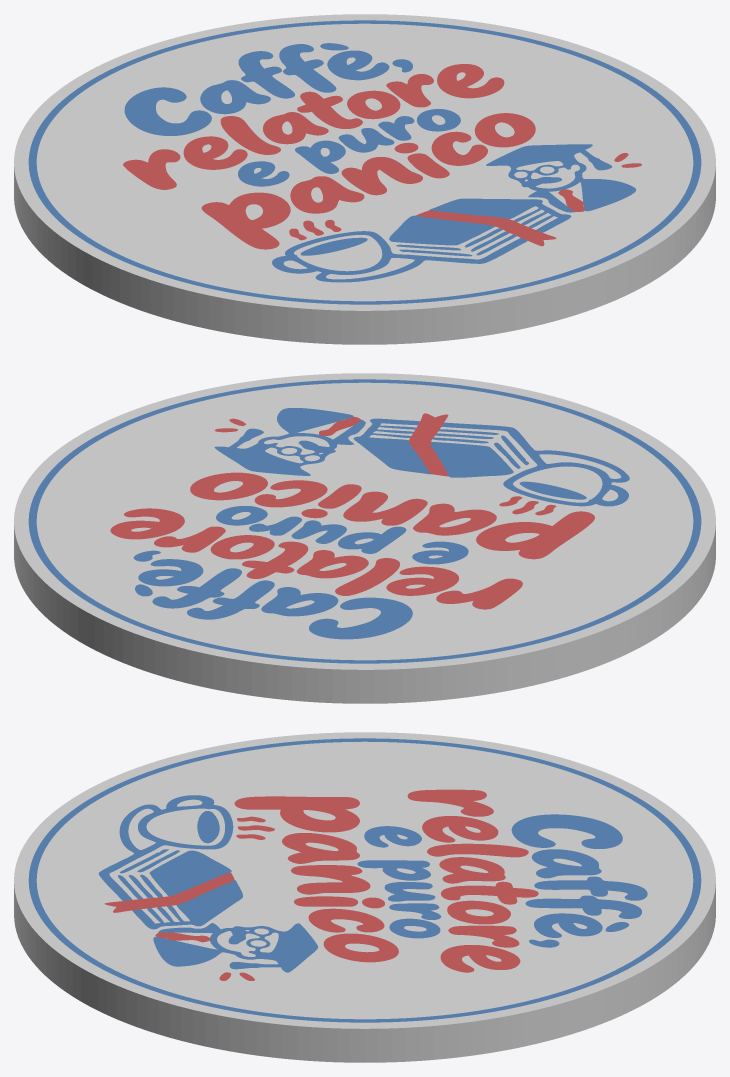
The model's file is sottobicchiere-caffe-relatore-panico.glb.
The picture shows the model from 3 angles, top to bottom: view 1: azimuth 30°, elevation 25°; view 2: azimuth 150°, elevation 25°; view 3: azimuth 270°, elevation 25°; orthographic projection.
Parts seen in each view (by area): view 1: coaster_base, coaster_ink, coaster_accent; view 2: coaster_base, coaster_ink, coaster_accent; view 3: coaster_base, coaster_ink, coaster_accent.
Part boxes in pixels (x1,y1,x2,y2): coaster_base: [14, 14, 715, 344]; coaster_ink: [28, 20, 701, 304]; coaster_accent: [123, 64, 641, 249]; coaster_base: [14, 373, 715, 703]; coaster_ink: [28, 379, 701, 663]; coaster_accent: [110, 413, 594, 609]; coaster_base: [14, 732, 715, 1062]; coaster_ink: [28, 738, 701, 1022]; coaster_accent: [104, 789, 538, 980].
Size of the model in its own units: 0.075 by 0.004 by 0.075.
